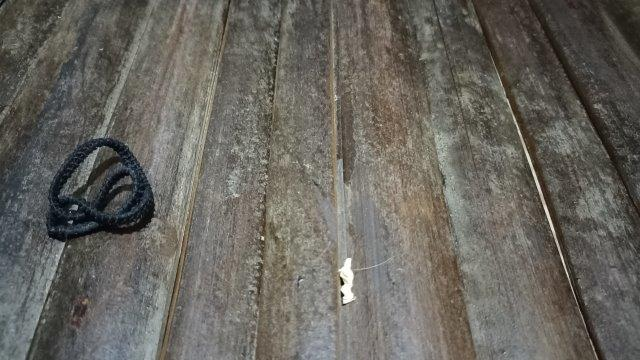karet: (47, 138, 155, 237)
